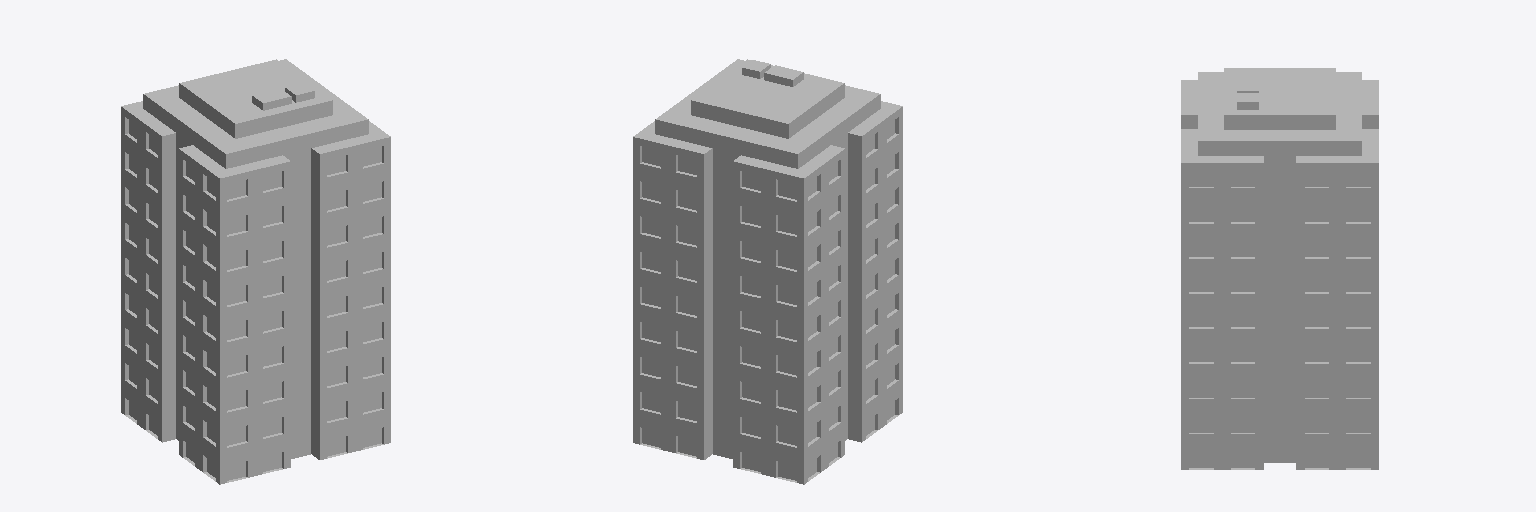
The model's file is building2.obj.
3 renders of one model, left to right at view 1: azimuth 30°, elevation 25°; view 2: azimuth 150°, elevation 25°; view 3: azimuth 270°, elevation 25°, orthographic.
Parts seen in each view (by area): view 1: Cube_Cube.002; view 2: Cube_Cube.002; view 3: Cube_Cube.002.
Boxes of the visible parts, box(x1,y1,x2,y2) form: Cube_Cube.002: box(121, 59, 390, 484); Cube_Cube.002: box(633, 59, 902, 484); Cube_Cube.002: box(1181, 68, 1378, 469).
Size of the model in its own units: 2.4 by 4.6 by 2.4.